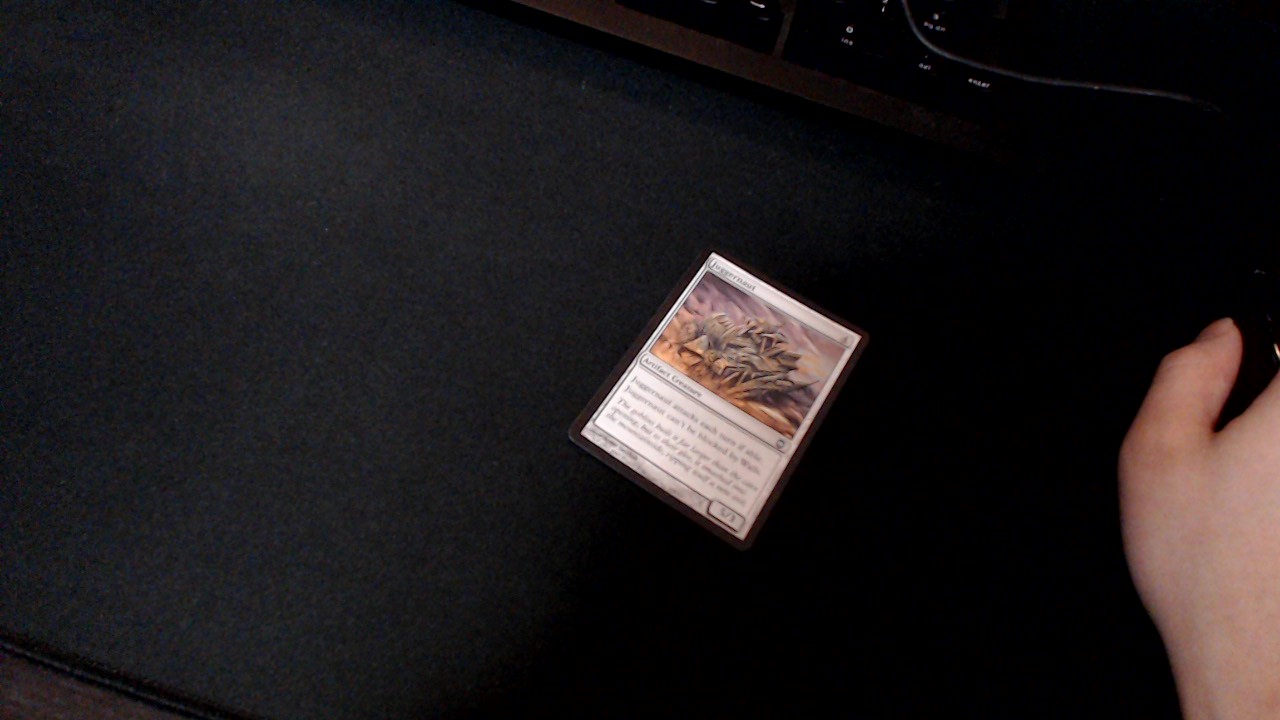MTG Card: (559, 238, 887, 553)
